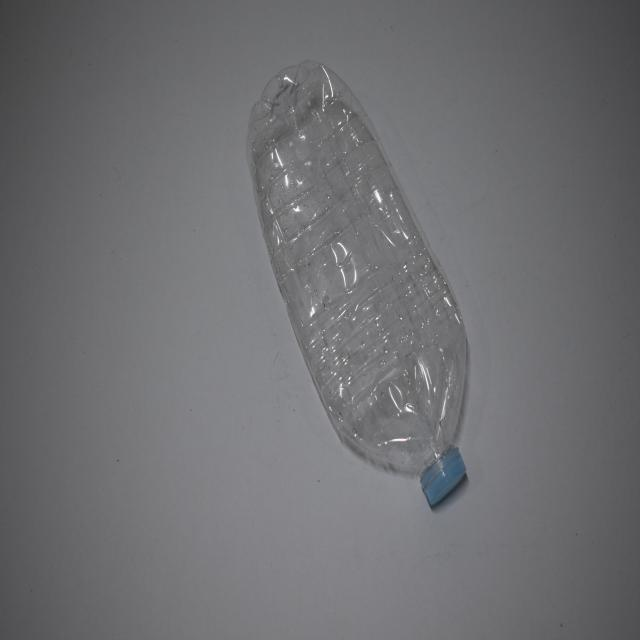empty: (248, 62, 466, 473)
